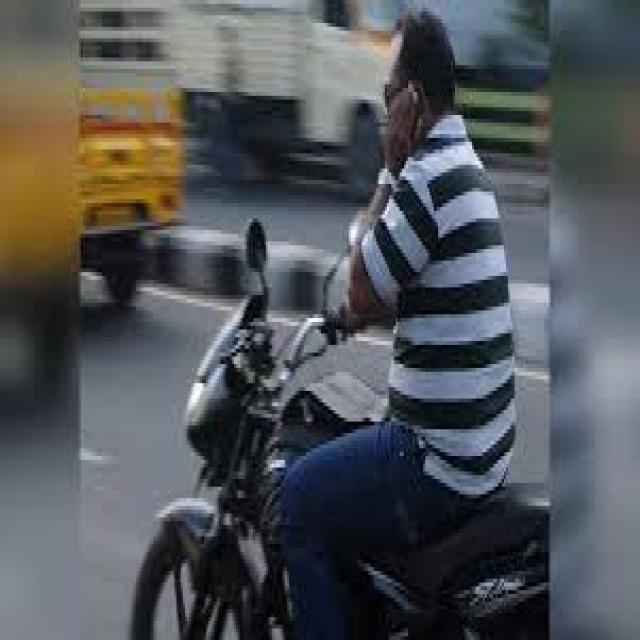without helmet: (383, 0, 459, 156)
